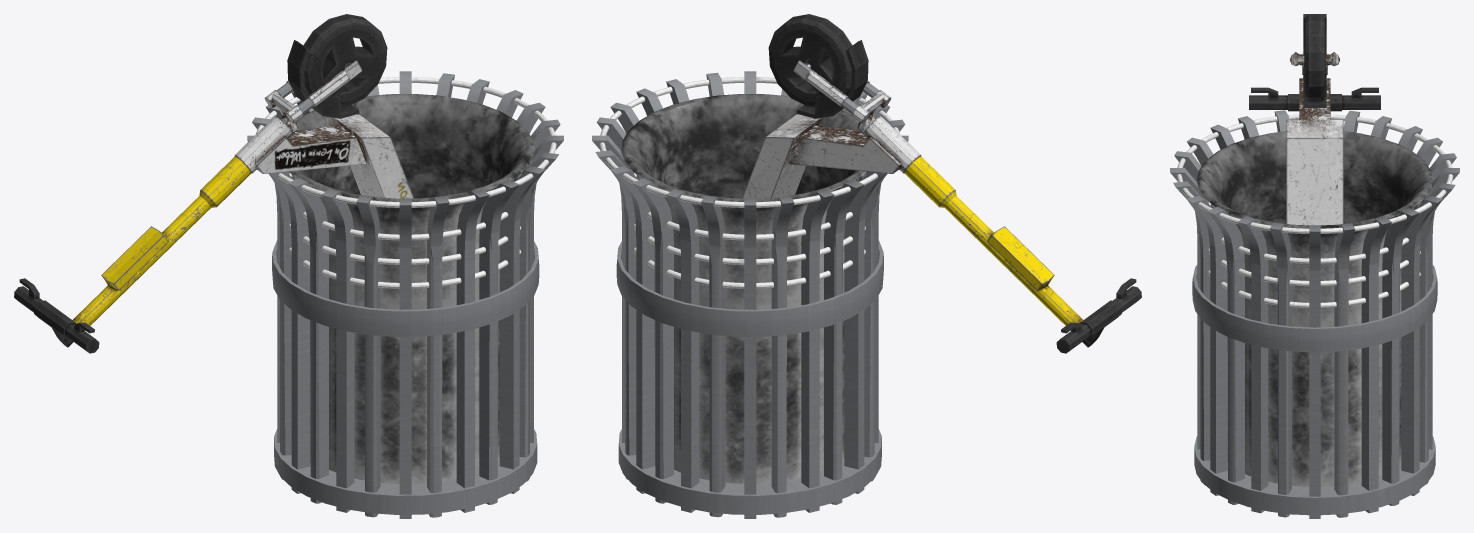
File: kolobka.glb
3 renders of one model, left to right at view 1: azimuth 30°, elevation 25°; view 2: azimuth 150°, elevation 25°; view 3: azimuth 270°, elevation 25°, orthographic. The views are drawn at different scales.
Visible parts, largest first — view 1: NurbsCircle, Cube; view 2: NurbsCircle, Cube; view 3: NurbsCircle, Cube.
Part boxes in pixels (x1=…): NurbsCircle: x1=247, y1=71, x2=563, y2=518; Cube: x1=14, y1=14, x2=413, y2=353; NurbsCircle: x1=592, y1=71, x2=908, y2=518; Cube: x1=742, y1=14, x2=1141, y2=353; NurbsCircle: x1=1170, y1=110, x2=1459, y2=518; Cube: x1=1249, y1=14, x2=1380, y2=225.
Size of the model in its own units: 1.41 by 1.26 by 0.7841.
2 materials, 2 textured.
